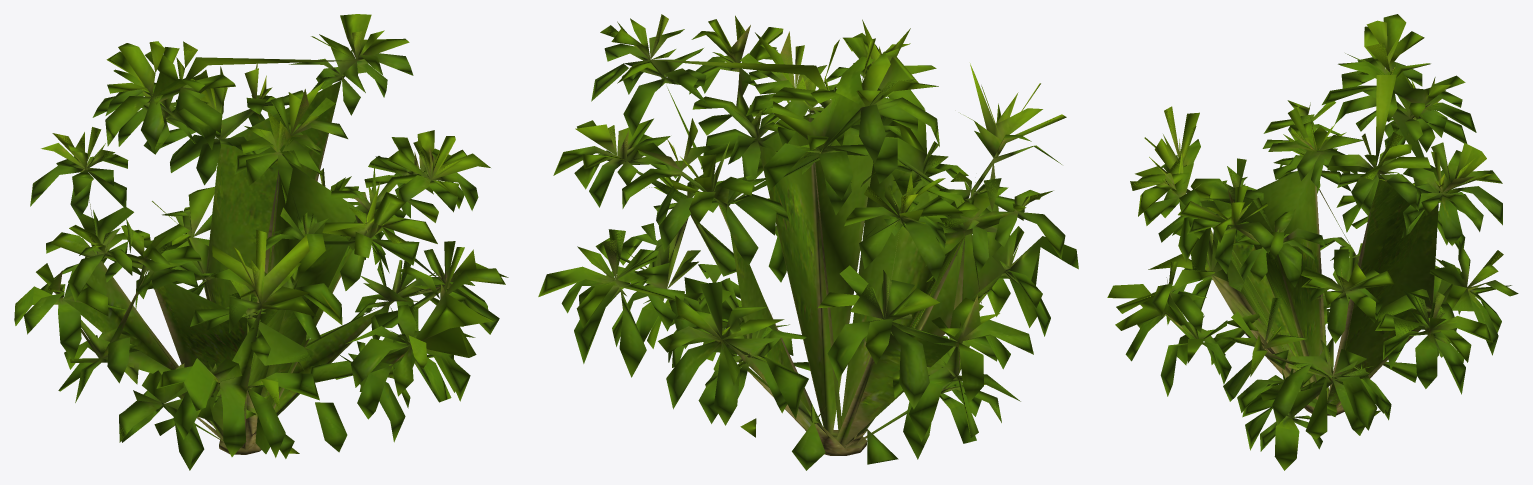
Rendered from VEG_ArbustoTropical_02_LOD1.fbx.
3 renders of one model, left to right at view 1: azimuth 30°, elevation 25°; view 2: azimuth 150°, elevation 25°; view 3: azimuth 270°, elevation 25°, orthographic. The views are drawn at different scales.
Visible parts, largest first — view 1: VEG_ArbustoTropical_02_Mesh000; view 2: VEG_ArbustoTropical_02_Mesh000; view 3: VEG_ArbustoTropical_02_Mesh000.
Part boxes in pixels (bbox=[...]): VEG_ArbustoTropical_02_Mesh000: bbox=[14, 14, 508, 470]; VEG_ArbustoTropical_02_Mesh000: bbox=[538, 14, 1078, 470]; VEG_ArbustoTropical_02_Mesh000: bbox=[1107, 14, 1518, 470].
Bounding box in the file's own units: 1.57 × 1.4 × 1.44.
